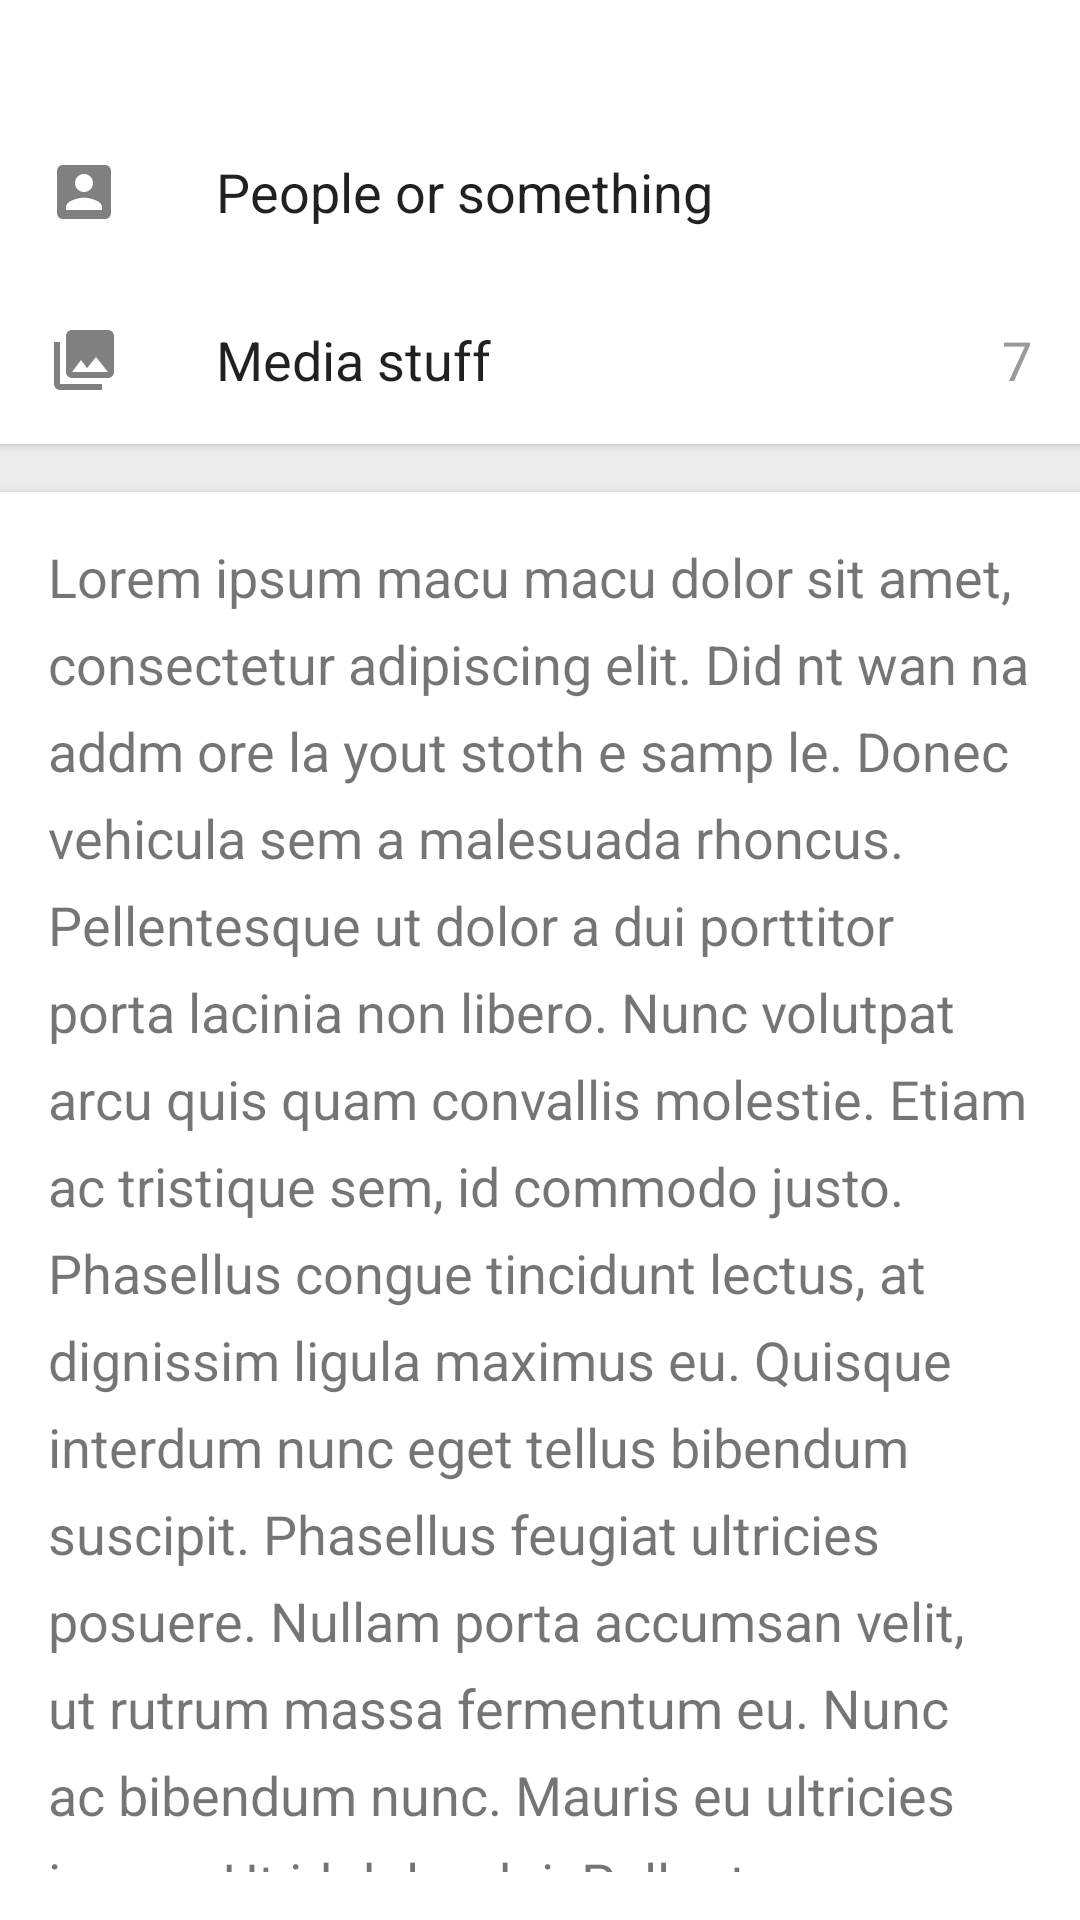

Screen size 1080*1920. Icon name, then its center in pixels as point (x, y):
contact: point (84, 192)
